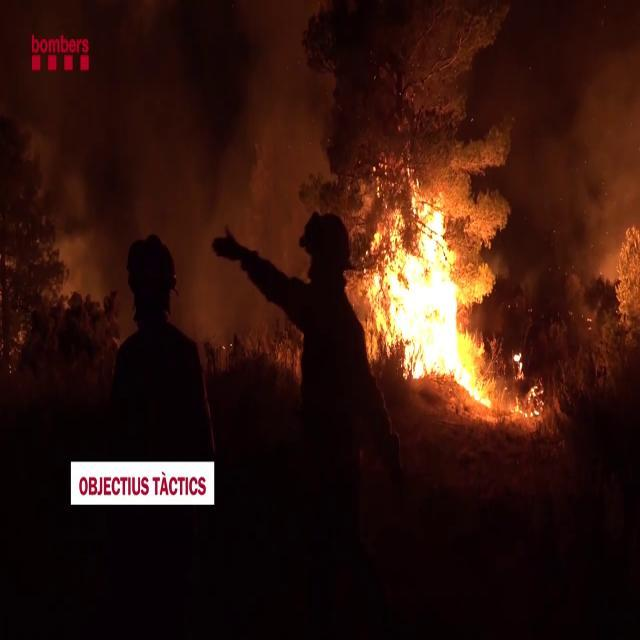Fire: (368, 187, 494, 401)
Smoke: (42, 1, 352, 329)
